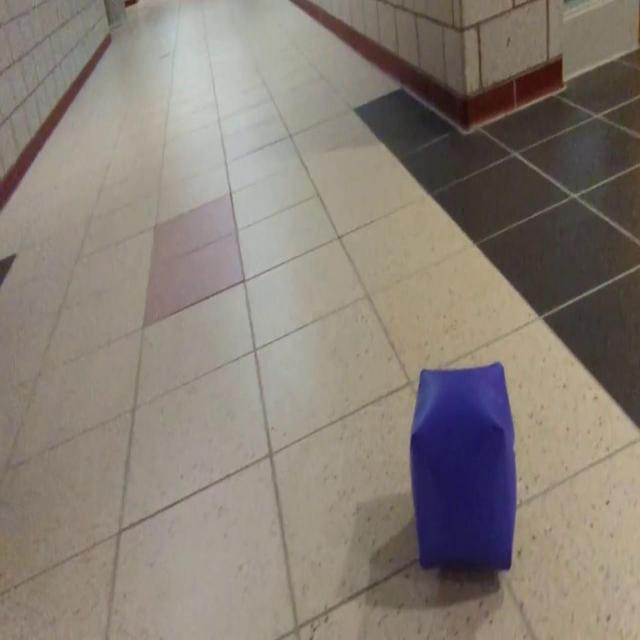frc_cube: (408, 359, 518, 573)
